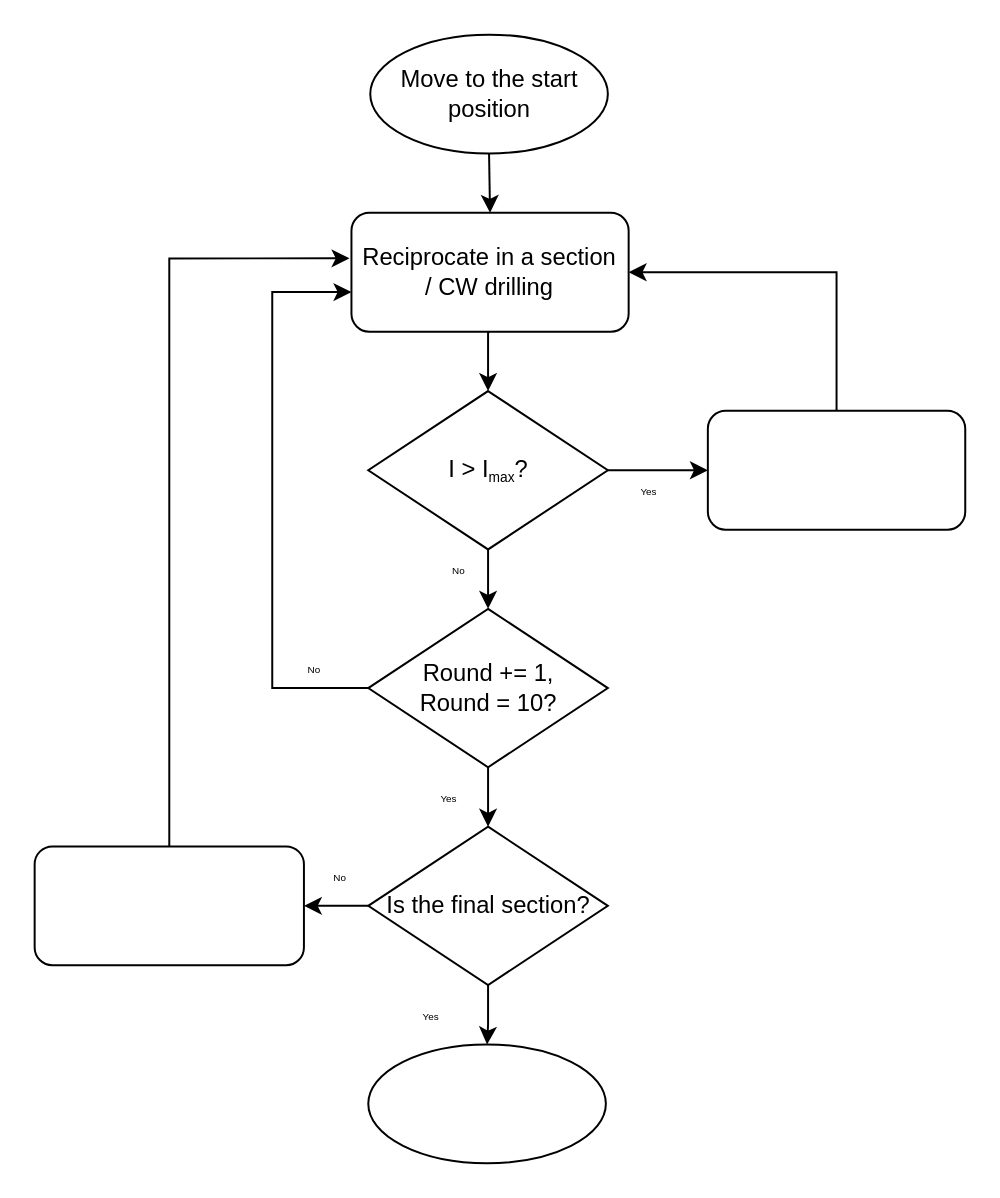
The diagram is 1000 pixels wide and 1198 high, and some of its shapes have lost their labels. The shapes that lost their labels are listed below. From the top down, each one's centre as x and y in pixels, then its label:
At (x=835, y=469): "Stop vertical movement / CCW drilling for 90 °".
At (x=168, y=904): "Move to the next section".
At (x=486, y=1102): "Finished".
